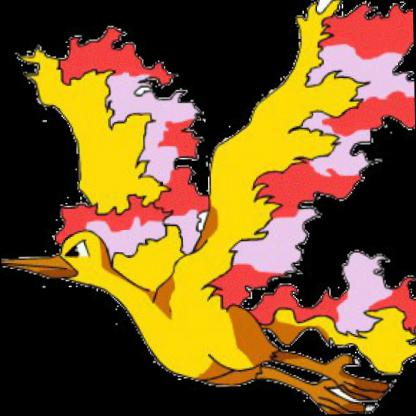Moltres: (1, 12, 416, 416)
